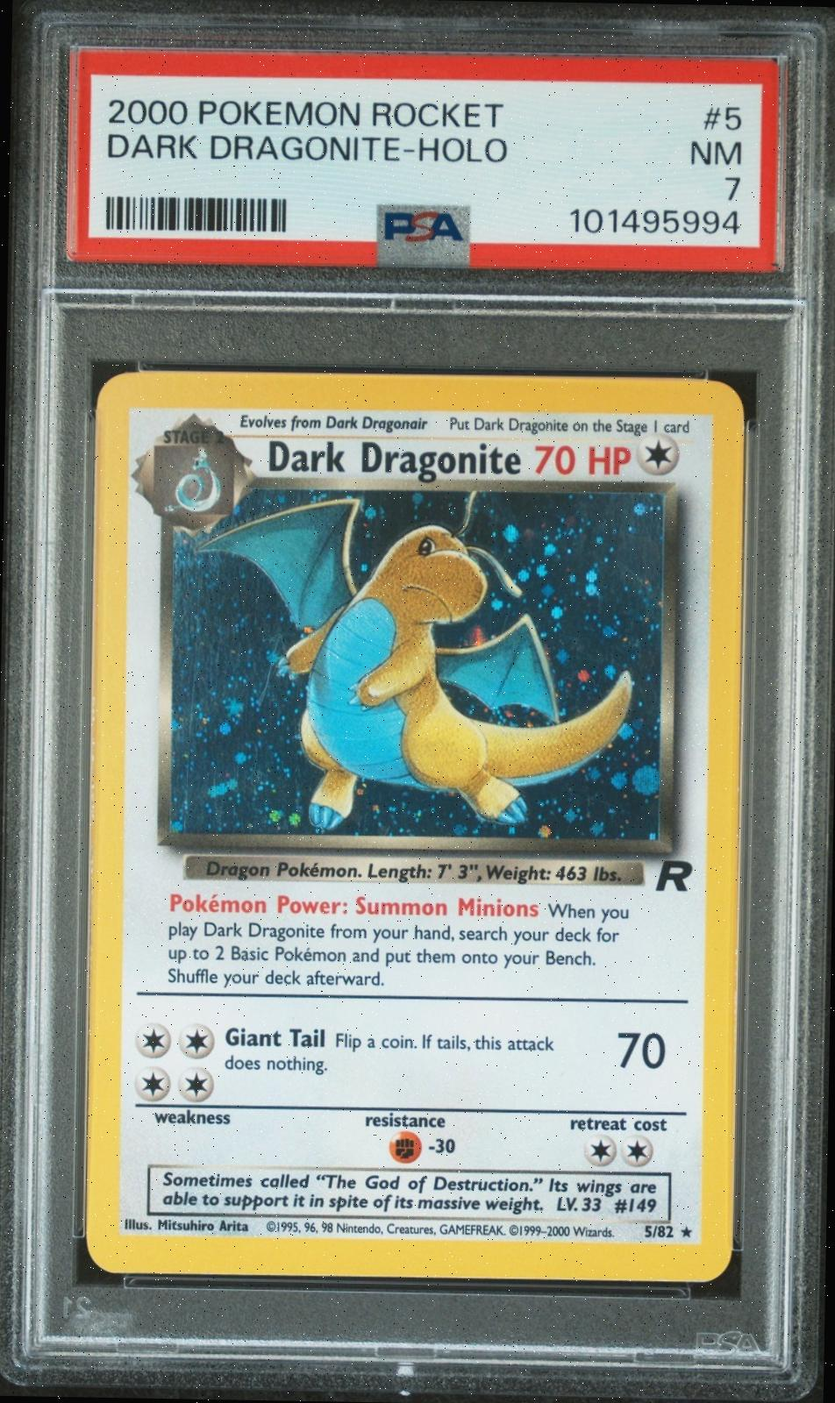card-2UtV: (85, 371, 745, 1283)
